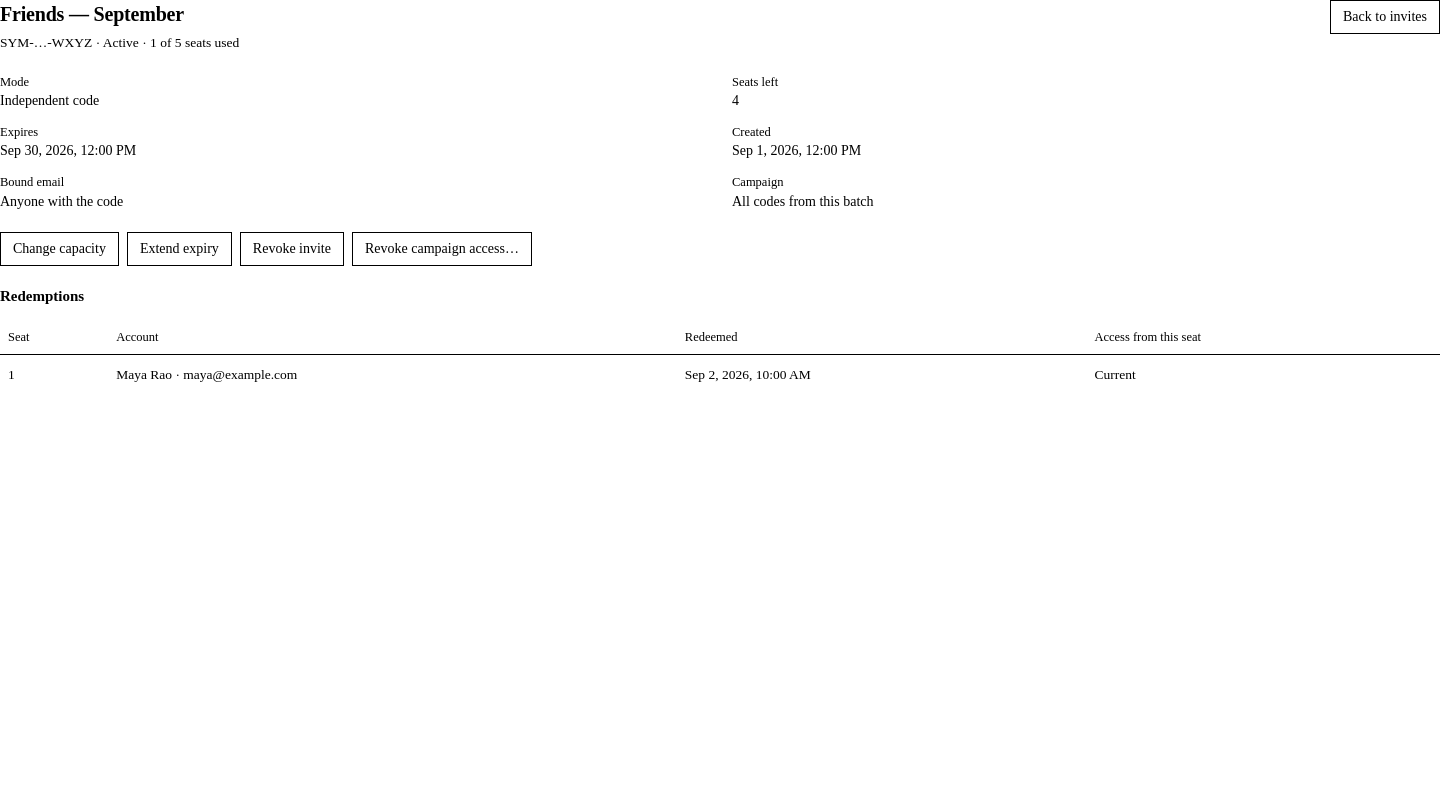
one invite (admin_invites.md) › revokes future redemptions and says admitted accounts keep their access
Click the button "Revoke invite".
click(292, 249)  # box [240,232,344,266]
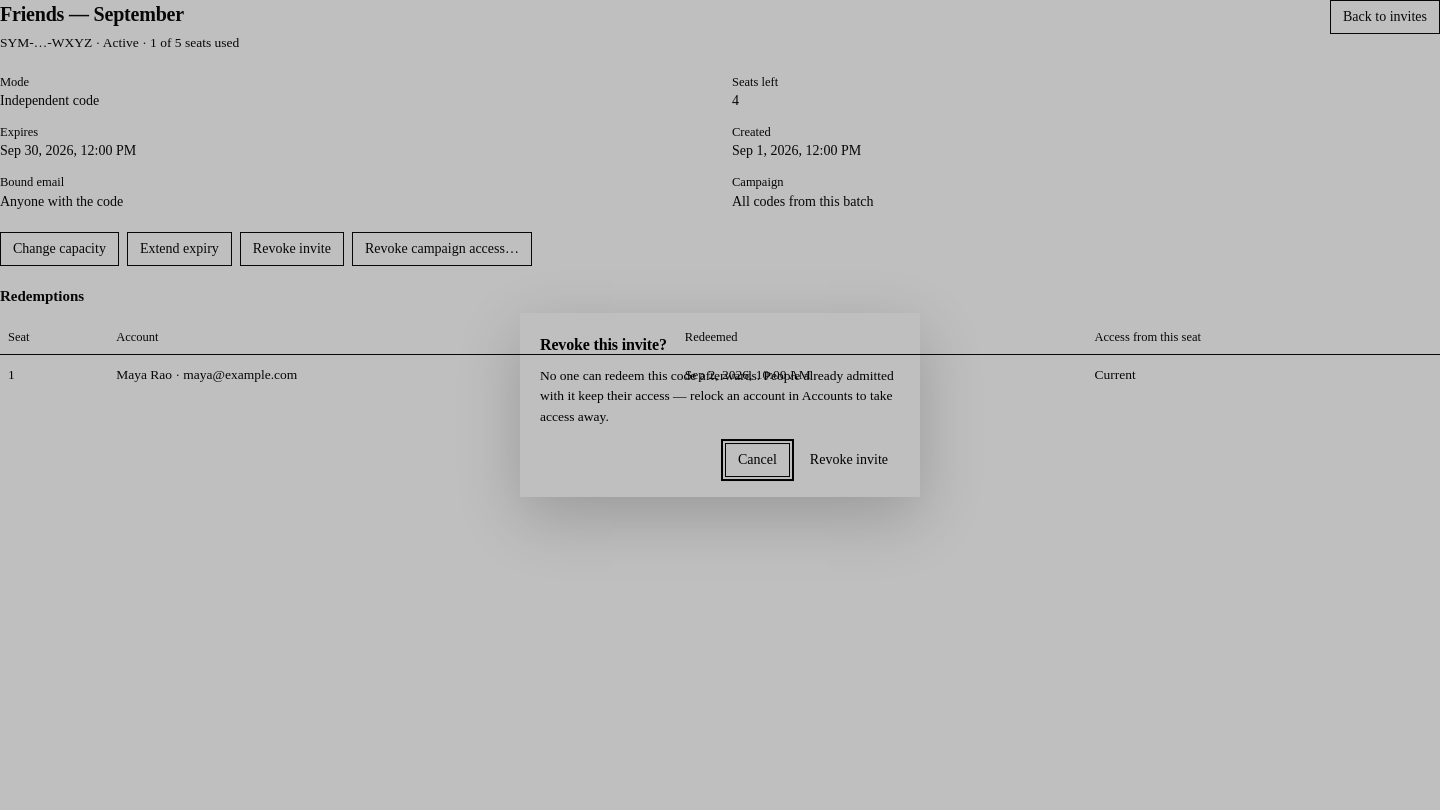
Result: the dialog shows "People already admitted with it keep their access" at [540,368,894,424]
Click the button "Revoke invite".
click(849, 460)  # box [798,443,900,477]
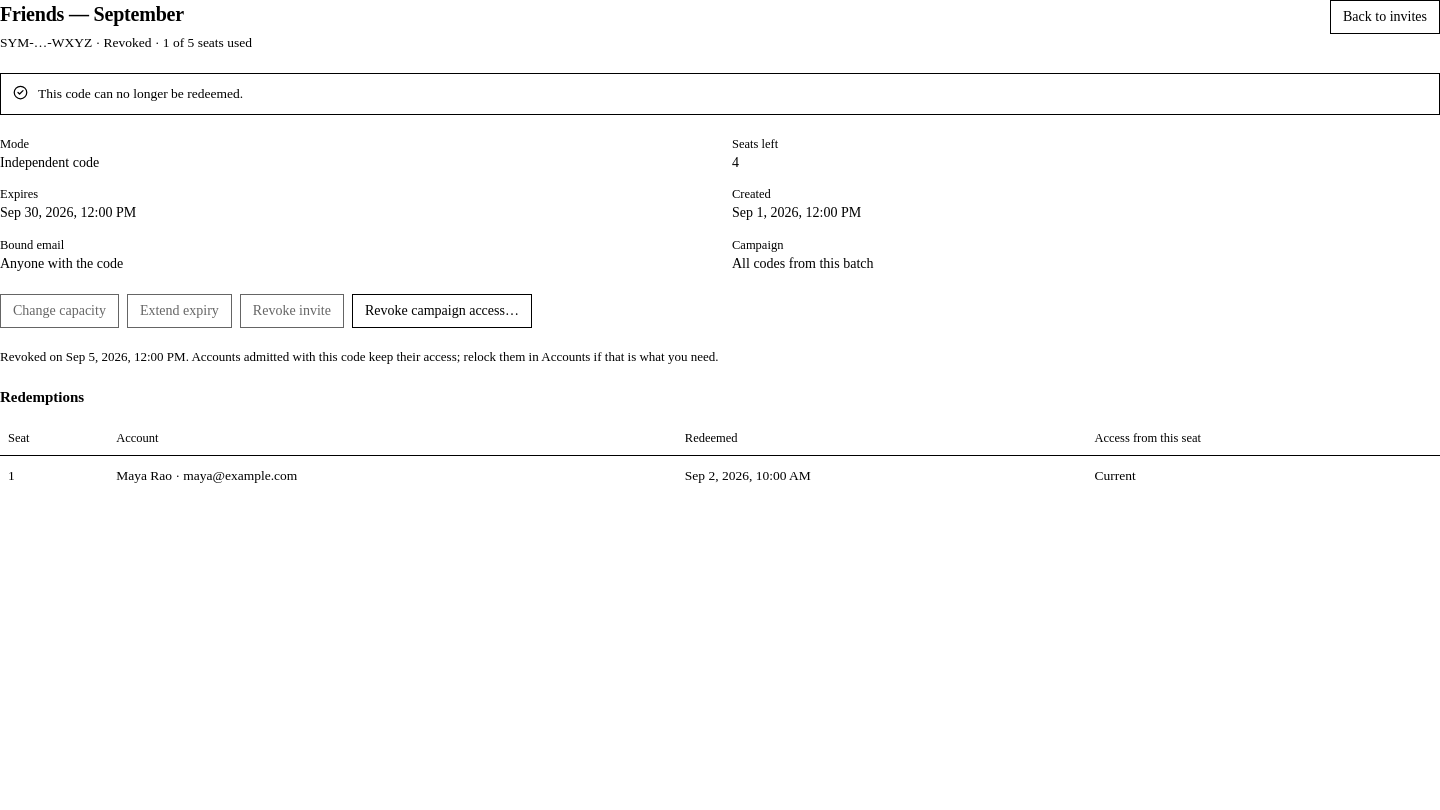
Result: the text "This code can no longer be redeemed." is shown at [38,86,243,101]
Result: the button "Change capacity" is disabled at [0,294,119,328]
